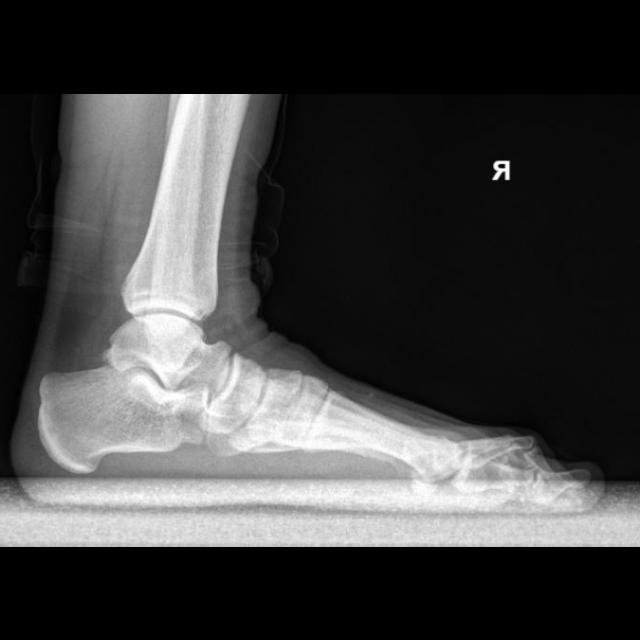a: (40, 366, 208, 472)
b: (206, 353, 266, 433)
c: (303, 386, 462, 501)
